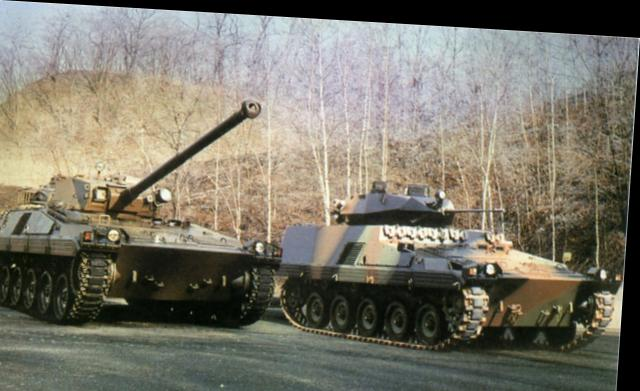tank: (277, 194, 610, 333), (0, 187, 269, 349)
